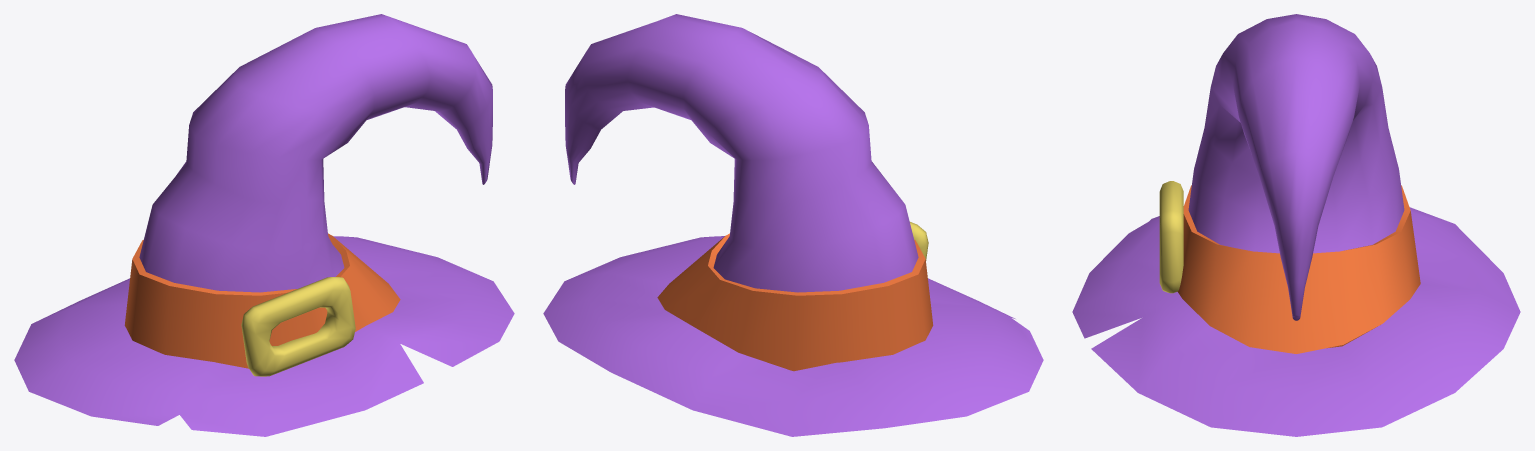
File: hat.fbx
3 renders of one model, left to right at view 1: azimuth 30°, elevation 25°; view 2: azimuth 150°, elevation 25°; view 3: azimuth 270°, elevation 25°, orthographic. The views are drawn at different scales.
Parts seen in each view (by area): view 1: Circle.001; view 2: Circle.001; view 3: Circle.001.
Part boxes in pixels (x1=…): Circle.001: x1=14, y1=14, x2=514, y2=436; Circle.001: x1=543, y1=14, x2=1043, y2=436; Circle.001: x1=1072, y1=14, x2=1520, y2=436.
Bounding box in the file's own units: 97.27 × 59.95 × 73.
